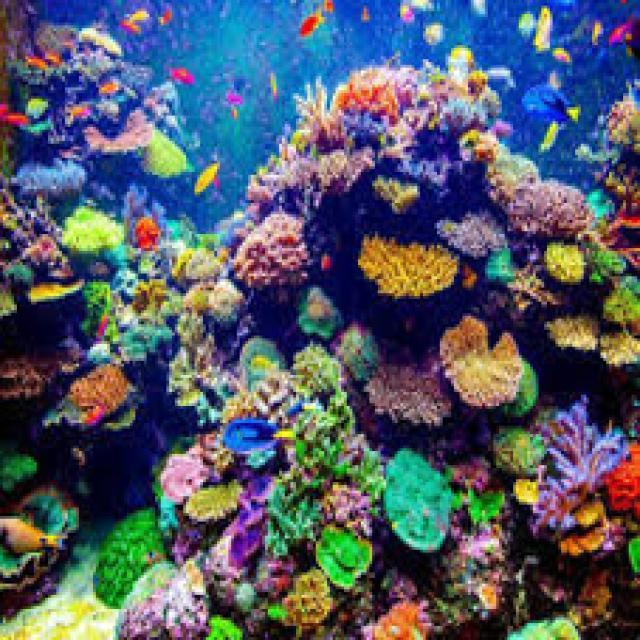Healthy: (539, 396, 635, 555), (438, 316, 535, 413), (379, 433, 454, 551), (119, 561, 213, 639), (292, 417, 378, 493), (97, 502, 164, 598), (368, 352, 453, 427), (352, 241, 458, 298), (232, 215, 309, 289), (502, 180, 592, 240), (314, 522, 377, 593), (62, 364, 132, 419), (268, 490, 315, 562), (368, 593, 436, 640), (335, 73, 397, 123), (276, 577, 331, 628), (147, 122, 191, 184), (237, 478, 268, 566), (58, 205, 126, 245), (86, 284, 124, 345), (90, 117, 149, 153), (1, 359, 52, 400), (300, 291, 341, 339), (551, 316, 600, 354), (502, 619, 587, 640), (186, 483, 240, 516), (214, 280, 251, 328), (456, 129, 504, 166), (509, 277, 558, 313), (372, 177, 422, 210), (458, 495, 508, 528), (609, 101, 640, 152), (548, 246, 587, 285), (607, 282, 640, 326), (135, 286, 175, 319), (456, 461, 496, 491), (604, 337, 638, 368), (490, 247, 517, 282), (1, 452, 37, 477), (136, 218, 160, 251)
